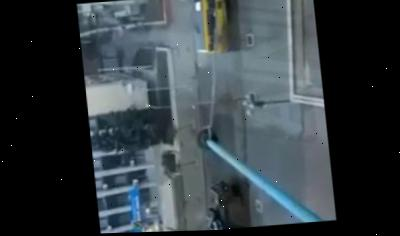rszo: (201, 177, 246, 230)
